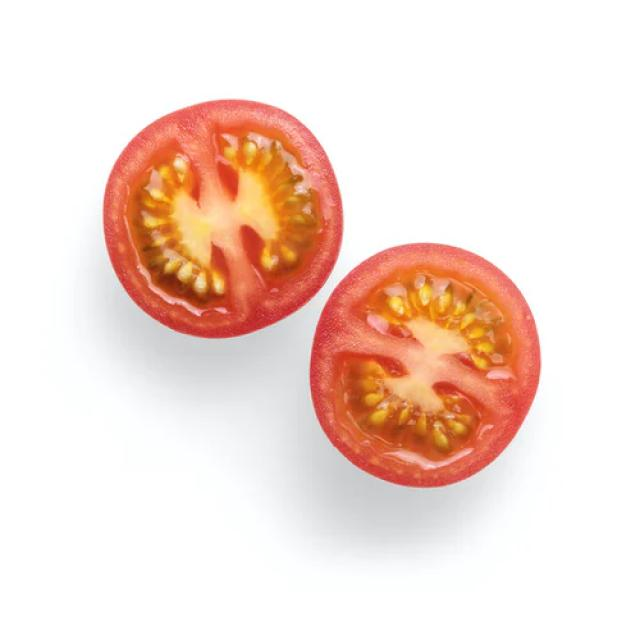Tomato: (300, 227, 558, 497), (92, 91, 357, 352)
